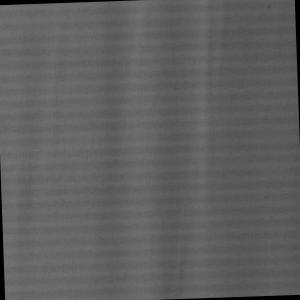Wrinkle: (4, 1, 257, 300)
